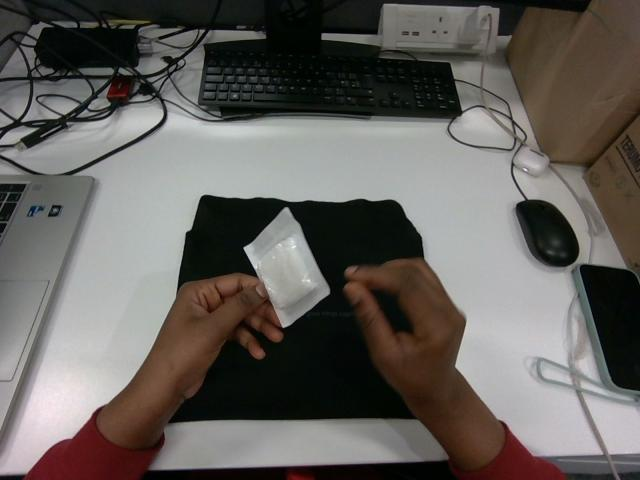gauze: (244, 207, 329, 326)
